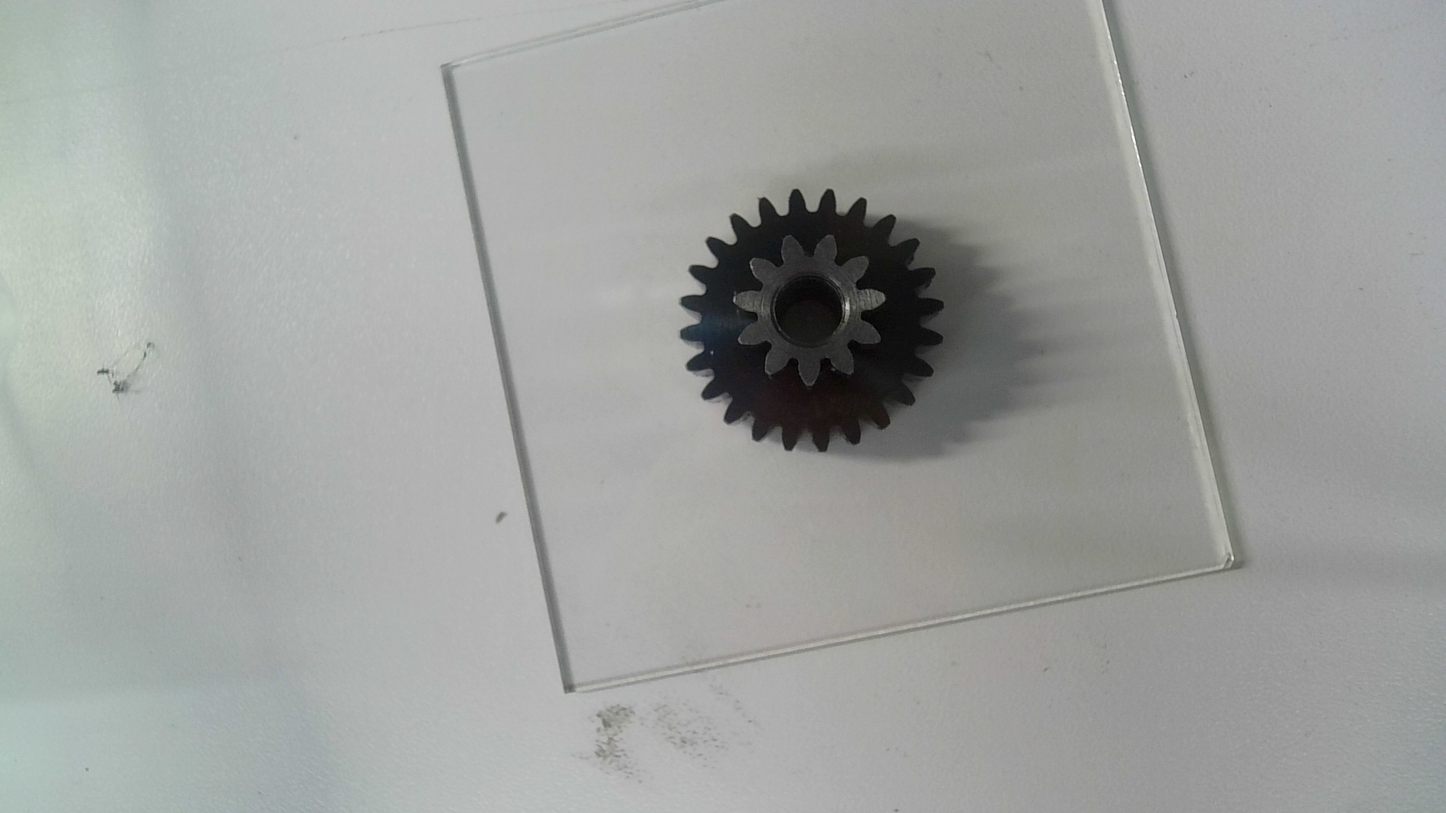gear: (673, 184, 949, 463)
